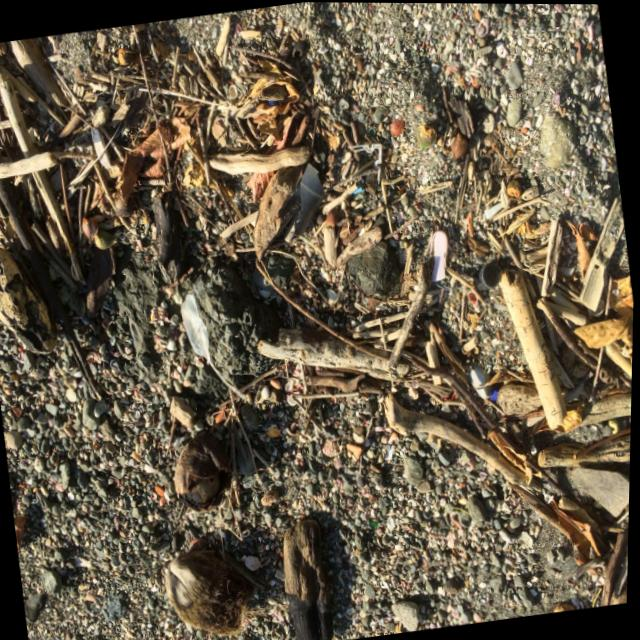Bottle-Glass: (467, 253, 509, 300)
Plastic: (166, 272, 253, 415)
